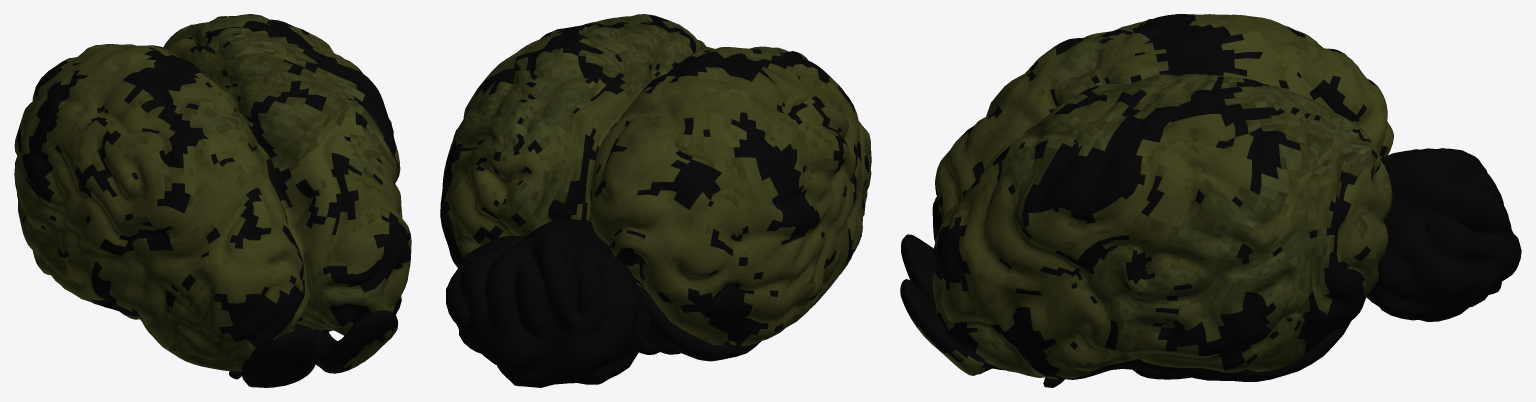
Rendered from Brain.fbx.
3 views of the same model, side by side, from view 1: azimuth 30°, elevation 25°; view 2: azimuth 150°, elevation 25°; view 3: azimuth 270°, elevation 25° (orthographic). The views are drawn at different scales.
Parts seen in each view (by area): view 1: Brain; view 2: Brain; view 3: Brain.
Part boxes in pixels (<box>): Brain: <box>14,14,411,387</box>; Brain: <box>440,14,871,387</box>; Brain: <box>900,14,1521,387</box>.
Bounding box in the file's own units: 7.68 × 6.42 × 11.38.
